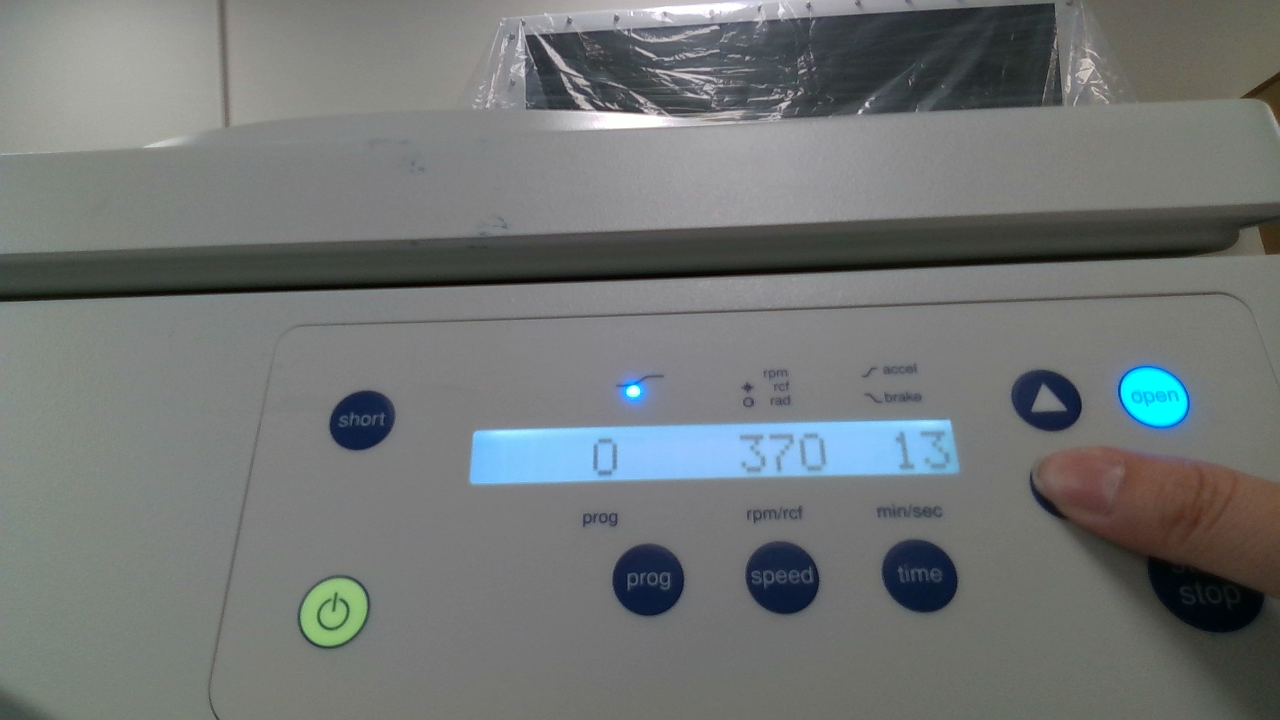0: (798, 430, 827, 472), (590, 433, 618, 474)
1: (892, 426, 916, 470)
3: (919, 428, 952, 471)
7: (768, 428, 796, 472)
power_off: (738, 430, 766, 472)
